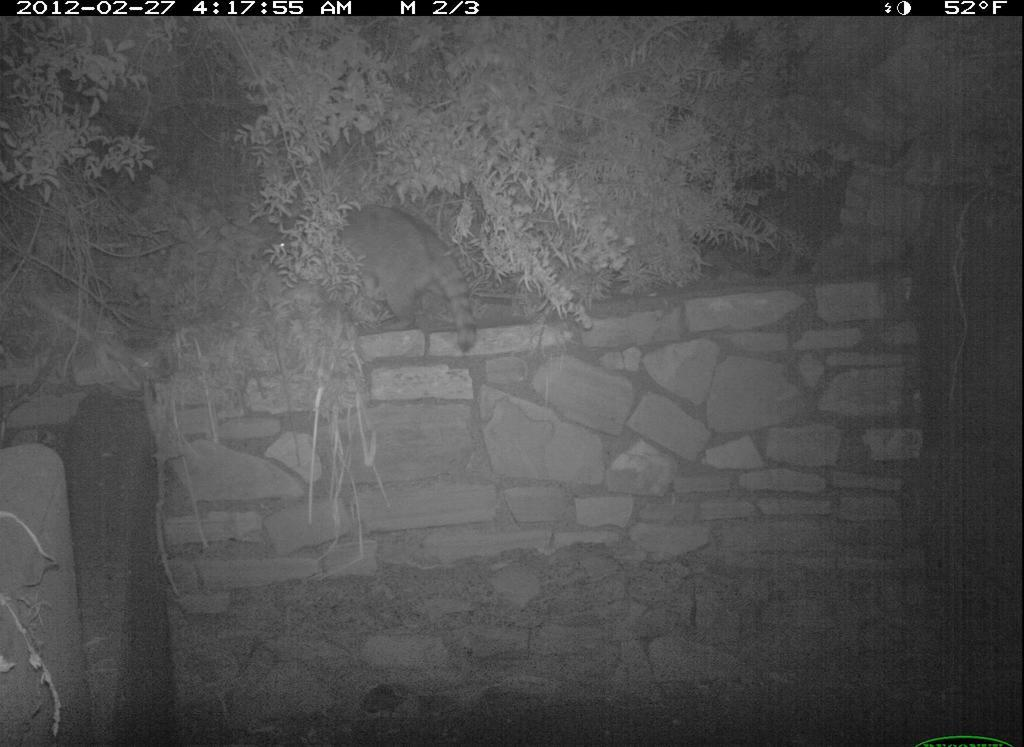raccoon: (326, 201, 486, 358)
